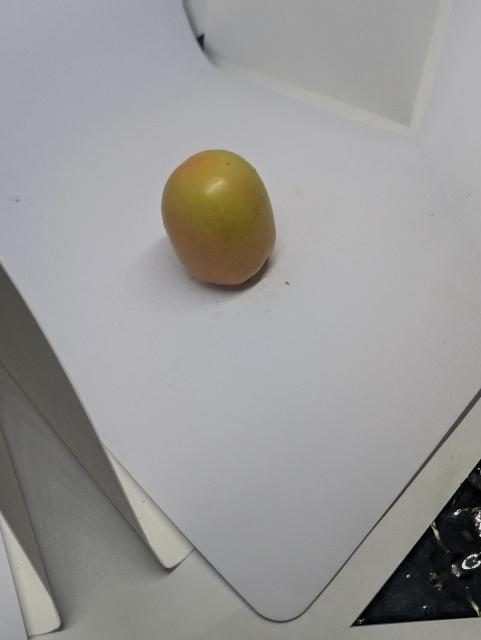turning: (157, 141, 282, 295)
